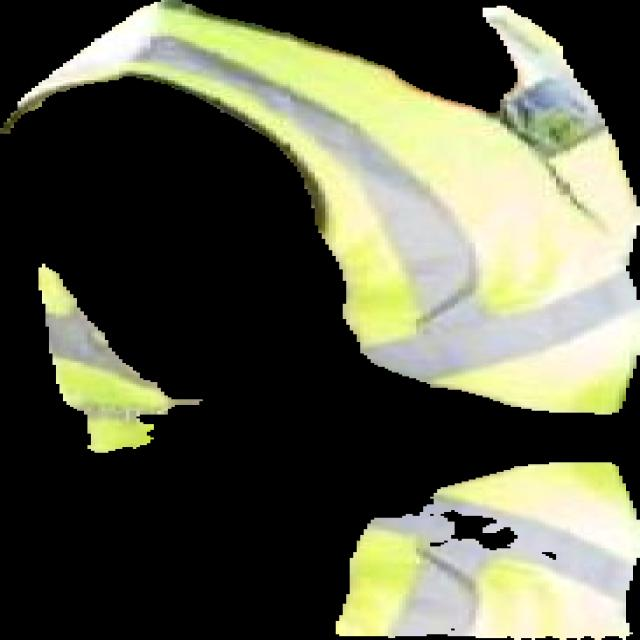Colete: (0, 0, 639, 414)
